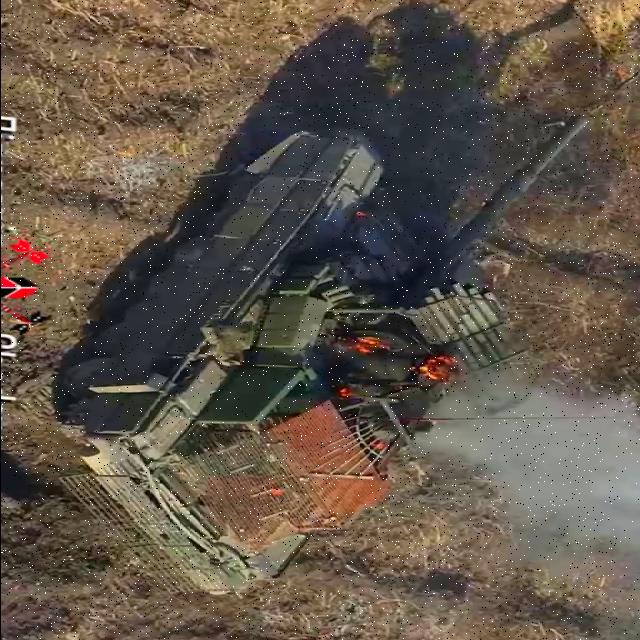TANK: (56, 110, 594, 596)
